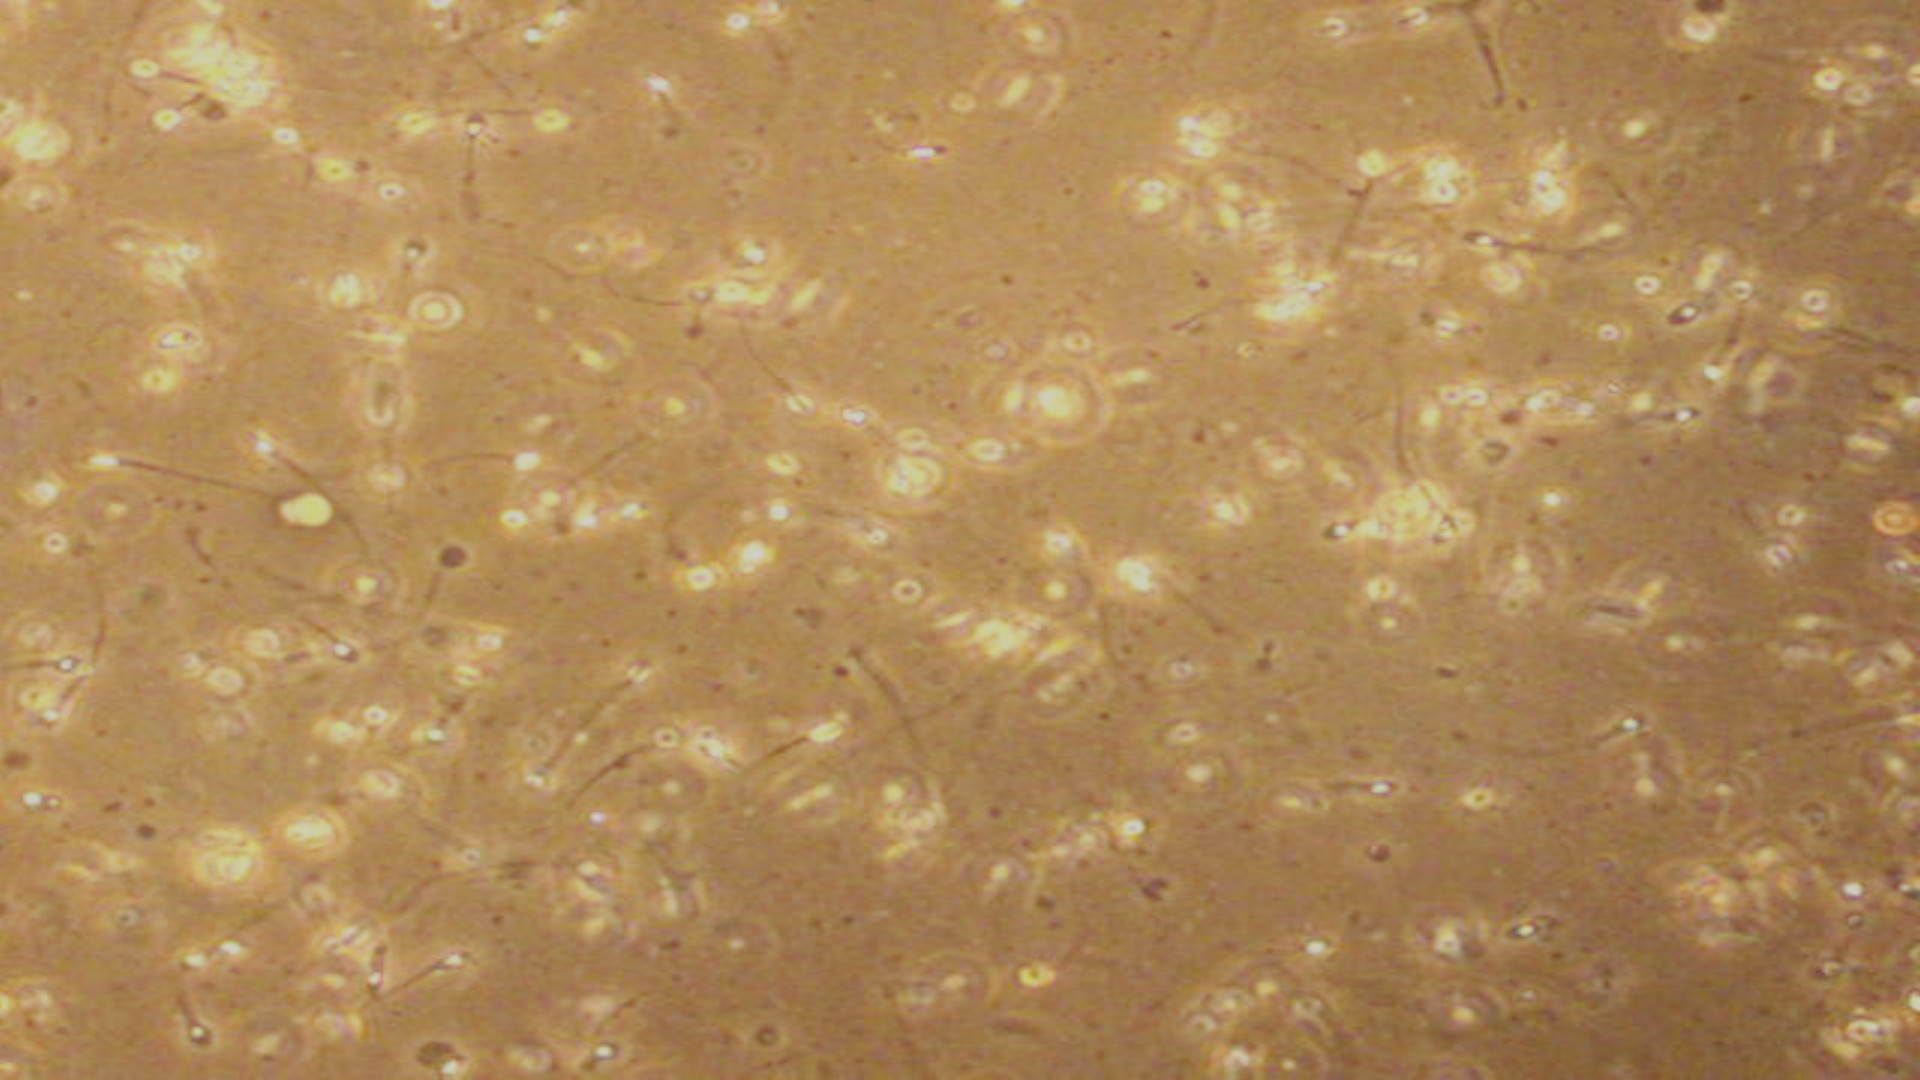sperm: (88, 438, 251, 517), (233, 425, 342, 524), (713, 327, 831, 418), (1452, 223, 1597, 282), (1484, 721, 1650, 773), (450, 105, 513, 222), (513, 709, 589, 800), (754, 713, 852, 777), (222, 913, 306, 984), (389, 945, 475, 998), (302, 607, 361, 673), (11, 644, 82, 686)
